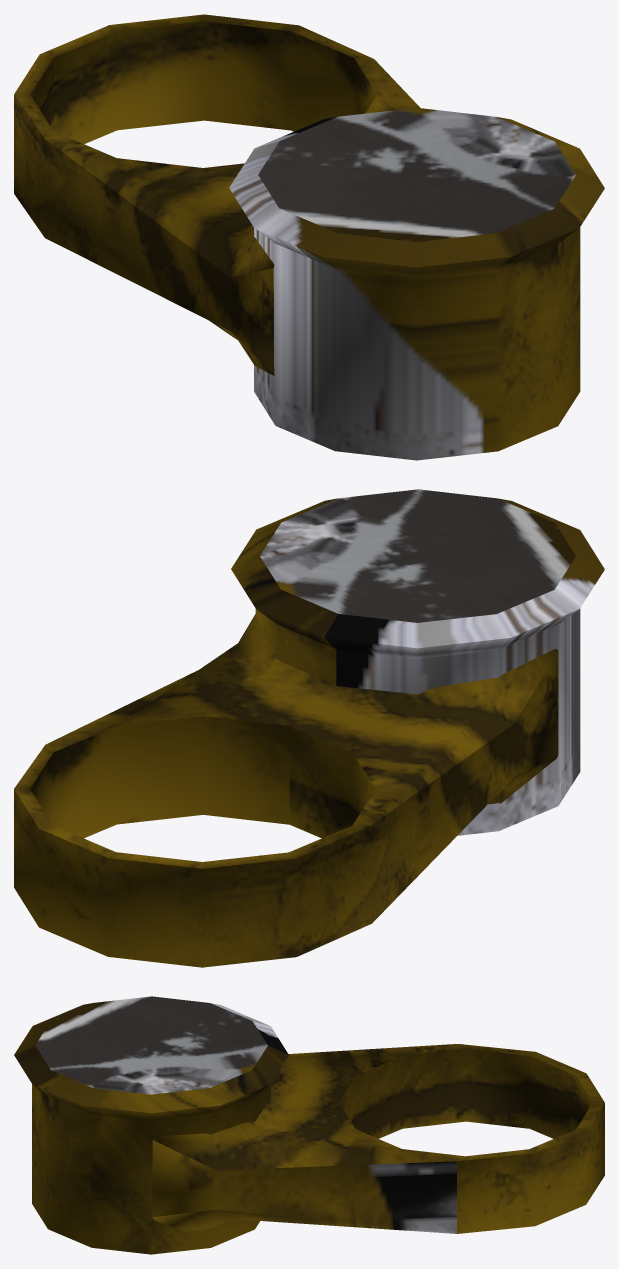
Rendered from track_to_armor_holder.fbx.
3 views of the same model, one above another, from view 1: azimuth 30°, elevation 25°; view 2: azimuth 150°, elevation 25°; view 3: azimuth 270°, elevation 25° (orthographic). The views are drawn at different scales.
Visible parts, largest first — view 1: track_to_armor_holder; view 2: track_to_armor_holder; view 3: track_to_armor_holder.
Boxes of the visible parts, bbox=[...] form: track_to_armor_holder: bbox=[14, 14, 604, 460]; track_to_armor_holder: bbox=[14, 489, 604, 967]; track_to_armor_holder: bbox=[14, 996, 604, 1254].
Bounding box in the file's own units: 44.43 × 27.98 × 94.49.
